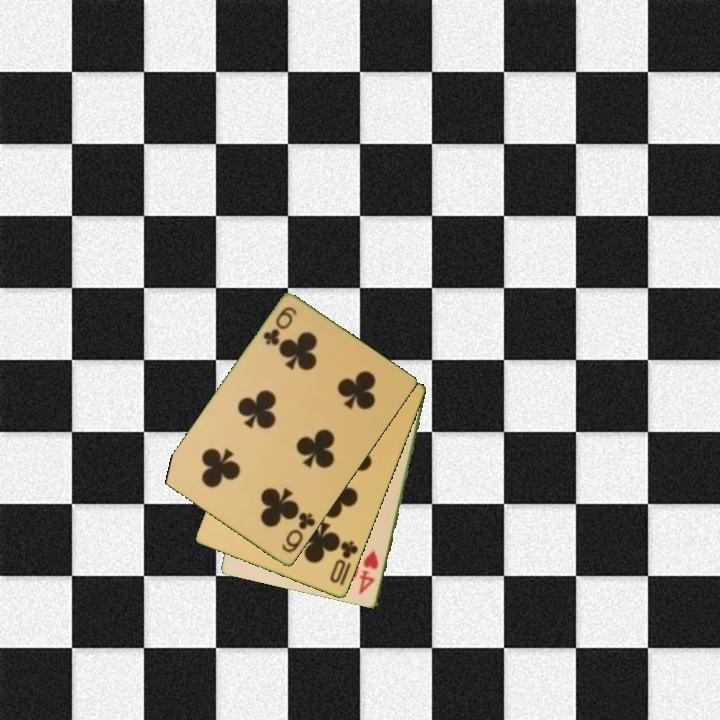10c: (326, 537, 361, 586)
4h: (355, 547, 382, 598)
6c: (278, 509, 319, 556), (259, 303, 300, 349)
